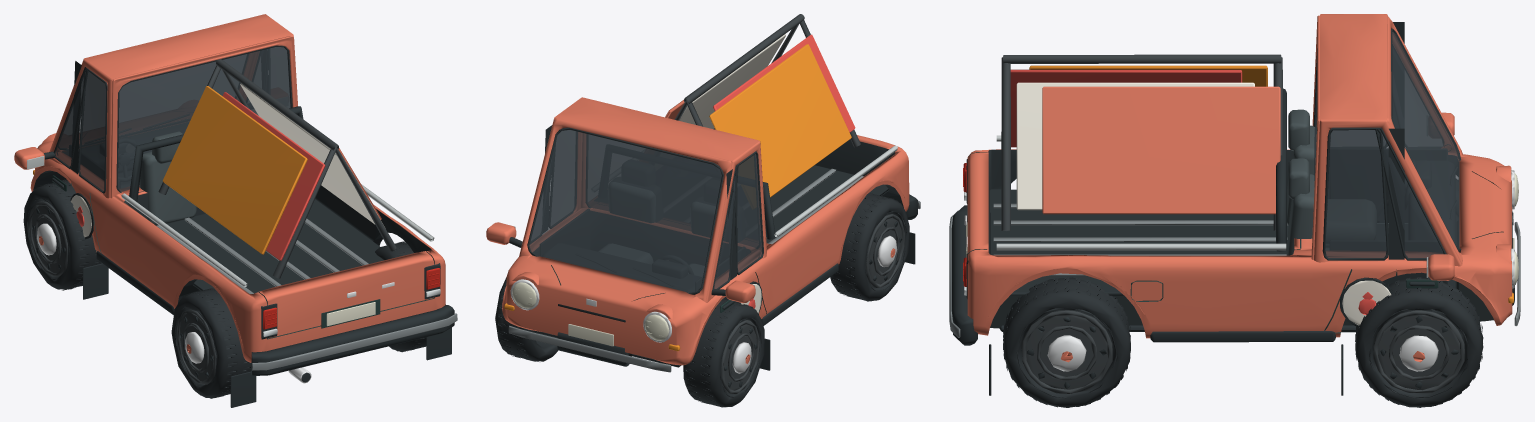
File: pitbody_lod2.fbx
3 views of the same model, side by side, from view 1: azimuth 30°, elevation 25°; view 2: azimuth 150°, elevation 25°; view 3: azimuth 270°, elevation 25° (orthographic). The views are drawn at different scales.
Parts seen in each view (by area): view 1: Body, Wheel_RL_Mesh, Wheel_FL_Mesh, Wheel_RR_Mesh; view 2: Body, Wheel_FL_Mesh, Wheel_RL_Mesh, Wheel_FR_Mesh; view 3: Body, Wheel_RR_Mesh, Wheel_FR_Mesh.
Boxes of the visible parts, x1,y1,x2,y2 form: Body: [14, 14, 457, 407]; Wheel_RL_Mesh: [171, 288, 251, 398]; Wheel_FL_Mesh: [23, 179, 101, 290]; Wheel_RR_Mesh: [375, 241, 445, 352]; Body: [486, 14, 920, 372]; Wheel_FL_Mesh: [683, 299, 764, 407]; Wheel_RL_Mesh: [830, 193, 909, 301]; Wheel_FR_Mesh: [495, 277, 558, 361]; Body: [949, 14, 1520, 395]; Wheel_RR_Mesh: [1003, 277, 1130, 407]; Wheel_FR_Mesh: [1355, 277, 1483, 407].
Size of the model in its own units: 229 by 200 by 357.
